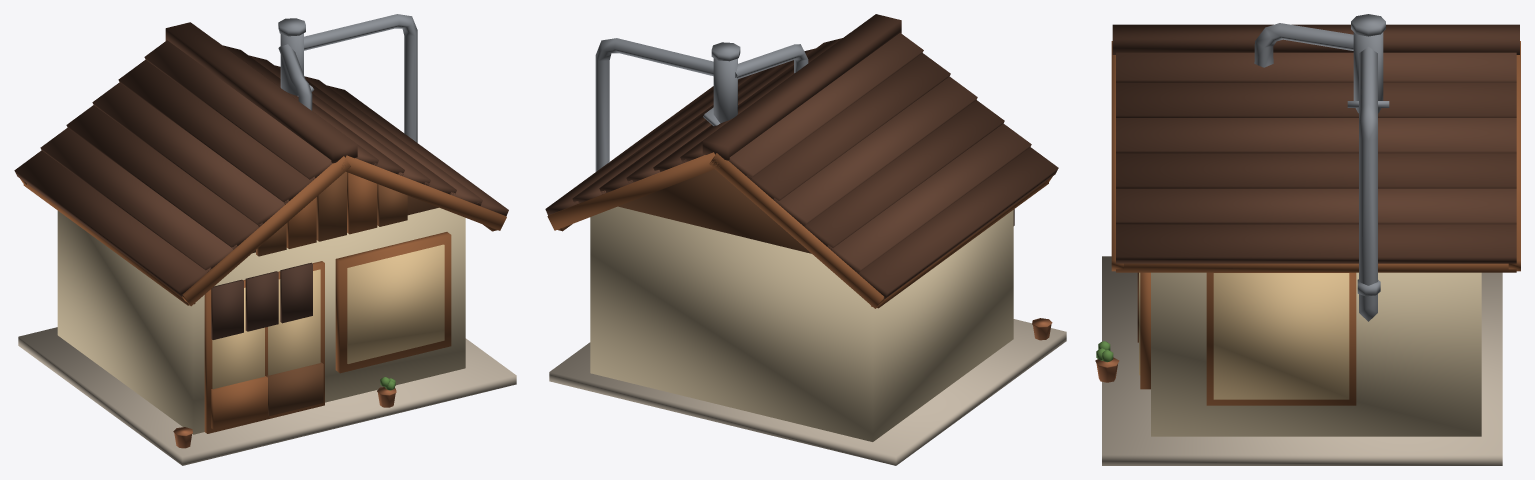
Rendered from okonomiyaki.glb.
3 renders of one model, left to right at view 1: azimuth 30°, elevation 25°; view 2: azimuth 150°, elevation 25°; view 3: azimuth 270°, elevation 25°, orthographic. The views are drawn at different scales.
Parts seen in each view (by area): view 1: okonomiyaki; view 2: okonomiyaki; view 3: okonomiyaki.
Part boxes in pixels (x1,y1,x2,y2): okonomiyaki: [14, 14, 516, 465]; okonomiyaki: [545, 14, 1066, 465]; okonomiyaki: [1095, 14, 1520, 465].
Size of the model in its own units: 2.8 by 2.38 by 2.45.
